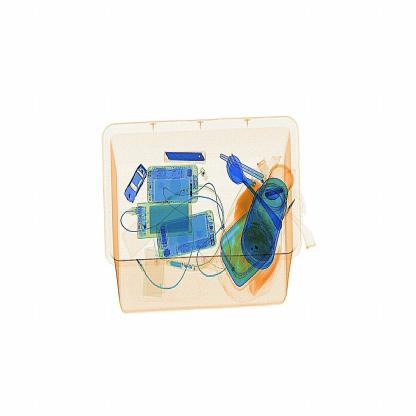pliers: (154, 141, 214, 176)
